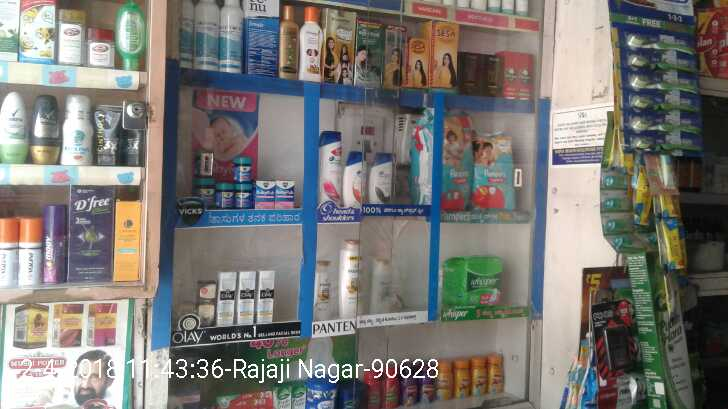oralcare: (619, 5, 705, 157)
vicks: (195, 151, 253, 210), (257, 177, 294, 211)
